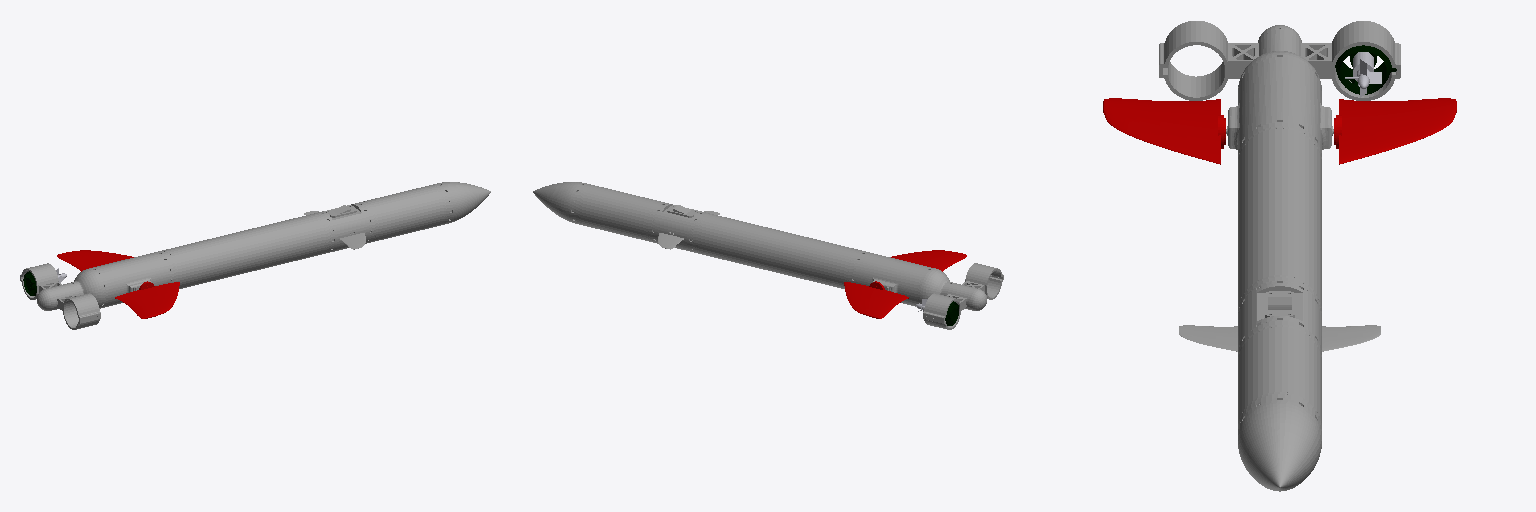
robot.urdf — my_auv:
<?xml version="1.0"?>

<robot name="my_auv">

  <!-- ========================= -->
  <!-- Main AUV body             -->
  <!-- ========================= -->

  <link name="base_link">

    <visual>
	<origin 
    xyz="0 0 0"
    rpy="0 0 1.5708"/>
      <geometry>
        <mesh
        filename="package://auv_sim/meshes/auv_body.stl"
        scale="1 1 1"/>
      </geometry>

      <material name="body_gray">
        <color rgba="0.65 0.65 0.65 1.0"/>
      </material>
    </visual>

    <collision name="main_hull_collision">
      <origin xyz="0 0 0" rpy="0 1.5708 0"/>

      <geometry>
        <cylinder
          radius="0.055"
          length="1.046"/>
      </geometry>
    </collision>

    <inertial>
      <mass value="4.3556"/>

      <inertia
        ixx="0.01515"
        ixy="0.0"
        ixz="0.0"
        iyy="0.30780"
        iyz="0.0"
        izz="0.31675"/>
    </inertial>

  </link>

  <!-- ========================= -->
  <!-- Center internal ballast    -->
  <!-- ========================= -->

  <link name="center_ballast">

    <inertial>
      <origin xyz="0 0 0"/>

      <mass value="4.65"/>

      <inertia
        ixx="0.01"
        ixy="0.0"
        ixz="0.0"
        iyy="0.01"
        iyz="0.0"
        izz="0.01"/>
    </inertial>

  </link>

  <joint name="center_ballast_joint" type="fixed">

    <parent link="base_link"/>
    <child link="center_ballast"/>

    <origin xyz="0 0 -0.035" rpy="0 0 0"/>

  </joint>

  <!-- ========================= -->
  <!-- Rear internal ballast     -->
  <!-- ========================= -->

  <link name="rear_ballast">

    <inertial>
      <origin xyz="0 0 0"/>

      <mass value="2.15"/>

      <inertia
        ixx="0.01"
        ixy="0.0"
        ixz="0.0"
        iyy="0.01"
        iyz="0.0"
        izz="0.01"/>
    </inertial>

  </link>

  <joint name="rear_ballast_joint" type="fixed">

    <parent link="base_link"/>
    <child link="rear_ballast"/>

    <origin xyz="-0.50 0 -0.035" rpy="0 0 0"/>

  </joint>

  <!-- ========================= -->
  <!-- IMU sensor                -->
  <!-- ========================= -->

  <gazebo reference="base_link">

    <sensor name="auv_imu" type="imu">

      <always_on>true</always_on>

      <update_rate>100</update_rate>

      <topic>imu</topic>

      <visualize>false</visualize>

    </sensor>

  </gazebo>

  <!-- ========================= -->
  <!-- Left elevator fin         -->
  <!-- ========================= -->

  <link name="left_fin">

    <visual>
      <origin xyz="0 0 0" rpy="0 0 1.5708"/>

      <geometry>
        <mesh filename="package://auv_sim/meshes/Left_fin.stl"/>
      </geometry>

    <material name="hotrod_red">
      <color rgba="0.75 0.02 0.02 1.0"/>
    </material>
  </visual>

    <collision>
      <origin xyz="0 0.15 0"/>
      <geometry>
        <box size="0.30 0.20 0.01"/>
      </geometry>

    </collision>

    <inertial>

      <mass value="0.164"/>

      <inertia
        ixx="0.001"
        ixy="0.0"
        ixz="0.0"
        iyy="0.001"
        iyz="0.0"
        izz="0.001"/>

    </inertial>

  </link>

  <!-- ========================= -->
  <!-- Right elevator fin         -->
  <!-- ========================= -->

  <link name="right_fin">

    <visual>
      <origin xyz="0 0 0" rpy="0 0 1.5708"/>

      <geometry>
        <mesh filename="package://auv_sim/meshes/Right_fin.stl"/>
      </geometry>

    <material name="hotrod_red">
      <color rgba="0.75 0.02 0.02 1.0"/>
    </material>
  </visual>

    <collision>
      <origin xyz="0 -0.15 0"/>
      <geometry>
        <box size="0.30 0.20 0.01"/>
      </geometry>

    </collision>

    <inertial>

      <mass value="0.164"/>

      <inertia
        ixx="0.001"
        ixy="0.0"
        ixz="0.0"
        iyy="0.001"
        iyz="0.0"
        izz="0.001"/>

    </inertial>

  </link>

  <!-- ========================= -->
  <!-- Left rear U1 thruster     -->
  <!-- ========================= -->

  <link name="left_thruster">

    <visual>
      <origin rpy="0 1.5708 1.5708"/>

      <geometry>
        <mesh filename="package://auv_sim/meshes/Left_thruster_hull.stl"/>
      </geometry>

      <material name="thruster_color">
        <color rgba="0.0 0.1 0.0 1.0"/>
      </material>
    </visual>

    <collision>
      <origin rpy="0 1.5708 0"/>

      <geometry>
        <cylinder radius="0.0375" length="0.075"/>
      </geometry>
    </collision>

    <inertial>
      <mass value="0.0781"/>

      <inertia
        ixx="0.0002"
        ixy="0.0"
        ixz="0.0"
        iyy="0.0002"
        iyz="0.0"
        izz="0.0002"/>
    </inertial>

  </link>

  <!-- ========================= -->
  <!-- Left U1 propeller        -->
  <!-- ========================= -->

  <link name="left_propeller">

    <visual>
      <origin xyz="0 0 0" rpy="0 0 -1.5708"/>
      <geometry>
        <mesh filename="package://auv_sim/meshes/Left_thruster_motor.stl"/>
      </geometry>

      <material name="propeller_color">
        <color rgba="0.75 0.75 0.78 1.0"/>
      </material>
    </visual>

    <inertial>
      <mass value="0.0801"/>

      <inertia
        ixx="0.00001"
        ixy="0.0"
        ixz="0.0"
        iyy="0.00001"
        iyz="0.0"
        izz="0.00001"/>
    </inertial>

  </link>

  <!-- ========================= -->
  <!-- Right rear U1 thruster    -->
  <!-- ========================= -->

  <link name="right_thruster">

      <visual>
        <origin rpy="0 -1.5708 1.5708"/>

      <geometry>
        <mesh filename="package://auv_sim/meshes/Right_thruster_hull.stl"/>
      </geometry>

        <material name="thruster_color">
          <color rgba="0.0 0.1 0.0 1.0"/>
        </material>
      </visual>

      <collision>
        <origin rpy="0 1.5708 0"/>

        <geometry>
          <cylinder radius="0.0375" length="0.075"/>
        </geometry>
      </collision>

      <inertial>
        <mass value="0.0781"/>

        <inertia
          ixx="0.0002"
          ixy="0.0"
          ixz="0.0"
          iyy="0.0002"
          iyz="0.0"
          izz="0.0002"/>
      </inertial>

    </link>

  <!-- ========================= -->
  <!-- Right U1 propeller       -->
  <!-- ========================= -->

  <link name="right_propeller">

    <visual>
      <origin xyz="0 0 0" rpy="0 0 -1.5708"/>
      <geometry>
        <mesh filename="package://auv_sim/meshes/Right_thruster_motor.stl"/>
      </geometry>

      <material name="propeller_color">
        <color rgba="0.75 0.75 0.78 1.0"/>
      </material>
    </visual>

    <inertial>
      <mass value="0.0801"/>

      <inertia
        ixx="0.00001"
        ixy="0.0"
        ixz="0.0"
        iyy="0.00001"
        iyz="0.0"
        izz="0.00001"/>
    </inertial>

  </link>

  <!-- ========================= -->
  <!-- Fin joint                 -->
  <!-- ========================= -->

  <joint name="left_fin_joint"
         type="revolute">

    <parent link="base_link"/>

    <child link="left_fin"/>

    <!-- Position of fin relative to body -->
    <origin xyz="-0.81510 0.06980 0.0"
            rpy="0 0 0"/>

    <!-- Axis of rotation -->
    <axis xyz="0 1 0"/>

    <!-- Servo limits -->
    <limit
      lower="-0.5"
      upper="0.5"
      effort="10"
      velocity="2"/>

  </joint>

  <joint name="right_fin_joint"
         type="revolute">

    <parent link="base_link"/>

    <child link="right_fin"/>

    <!-- Position of fin relative to body -->
    <origin xyz="-0.81510 -0.06980 0.0"
            rpy="0 0 0"/>

    <!-- Axis of rotation -->
    <axis xyz="0 1 0"/>

    <!-- Servo limits -->
    <limit
      lower="-0.5"
      upper="0.5"
      effort="10"
      velocity="2"/>

  </joint>

  <joint name="left_thruster_joint" type="fixed">

    <parent link="base_link"/>
    <child link="left_thruster"/>

    <origin xyz="-1.03199 0.108239 0.0" rpy="0 0 0"/>

  </joint>

  <joint name="left_propeller_joint" type="continuous">

    <parent link="left_thruster"/>
    <child link="left_propeller"/>

    <origin xyz="0 0 0" rpy="0 0 0"/>

    <axis xyz="1 0 0"/>

  </joint>

  <joint name="right_thruster_joint" type="fixed">

    <parent link="base_link"/>
    <child link="right_thruster"/>

    <origin xyz="-1.03199 -0.108239 0.0" rpy="0 0 0"/>

  </joint>

  <joint name="right_propeller_joint" type="continuous">

    <parent link="right_thruster"/>
    <child link="right_propeller"/>

    <origin xyz="0 0 0" rpy="0 0 0"/>

    <axis xyz="1 0 0"/>

  </joint>

  <ros2_control name="GazeboSimSystem" type="system">
    <hardware>
      <plugin>gz_ros2_control/GazeboSimSystem</plugin>
    </hardware>

    <joint name="left_fin_joint">
      <command_interface name="position"/>
      <state_interface name="position"/>
      <state_interface name="velocity"/>
    </joint>

    <joint name="right_fin_joint">
      <command_interface name="position"/>
      <state_interface name="position"/>
      <state_interface name="velocity"/>
    </joint>

  </ros2_control>

  <gazebo>
    <plugin
      filename="libgz_ros2_control-system.so"
      name="gz_ros2_control::GazeboSimROS2ControlPlugin">
      <parameters>/home/ghalih-a-salamun/auv_ws/src/auv_sim/config/controllers.yaml</parameters>
    </plugin>

    <!-- ========================= -->
    <!-- Fixed stabilizer +Y side  -->
    <!-- ========================= -->

    <plugin
      filename="gz-sim-lift-drag-system"
      name="gz::sim::systems::LiftDrag">

      <air_density>1000</air_density>

      <cla>2.0</cla>
      <cla_stall>-1.1</cla_stall>

      <cda>0.2</cda>
      <cda_stall>0.03</cda_stall>

      <alpha_stall>0.17</alpha_stall>

      <a0>0</a0>

      <area>0.004267</area>

      <forward>1 0 0</forward>
      <upward>0 0 1</upward>

      <link_name>base_link</link_name>

      <cp>-0.18961 0.08444 0</cp>

    </plugin>


    <!-- ========================= -->
    <!-- Fixed stabilizer -Y side  -->
    <!-- ========================= -->

    <plugin
      filename="gz-sim-lift-drag-system"
      name="gz::sim::systems::LiftDrag">

      <air_density>1000</air_density>

      <cla>2.0</cla>
      <cla_stall>-1.1</cla_stall>

      <cda>0.2</cda>
      <cda_stall>0.03</cda_stall>

      <alpha_stall>0.17</alpha_stall>

      <a0>0</a0>

      <area>0.004267</area>

      <forward>1 0 0</forward>
      <upward>0 0 1</upward>

      <link_name>base_link</link_name>

      <cp>-0.18961 -0.08444 0</cp>

    </plugin>

    <plugin
      filename="gz-sim-thruster-system"
      name="gz::sim::systems::Thruster">

      <namespace>auv</namespace>
      <joint_name>left_propeller_joint</joint_name>

      <fluid_density>1000</fluid_density>
      <propeller_diameter>0.05</propeller_diameter>

      <max_thrust_cmd>19.6</max_thrust_cmd>
      <min_thrust_cmd>-19.6</min_thrust_cmd>

    </plugin>

    <plugin
      filename="gz-sim-thruster-system"
      name="gz::sim::systems::Thruster">

      <namespace>auv</namespace>

      <joint_name>right_propeller_joint</joint_name>

      <fluid_density>1000</fluid_density>
      <propeller_diameter>0.05</propeller_diameter>

      <max_thrust_cmd>19.6</max_thrust_cmd>
      <min_thrust_cmd>-19.6</min_thrust_cmd>

    </plugin>

    <plugin filename="gz-sim-odometry-publisher-system"
          name="gz::sim::systems::OdometryPublisher">

      <odom_frame>world</odom_frame>
      <robot_base_frame>base_link</robot_base_frame>

      <odom_publish_frequency>50</odom_publish_frequency>

      <dimensions>3</dimensions>

      <odom_topic>/auv/odom</odom_topic>

    </plugin>

    <!-- ========================= -->
    <!-- Hydrodynamic damping      -->
    <!-- ========================= -->

    <plugin
      filename="gz-sim-hydrodynamics-system"
      name="gz::sim::systems::Hydrodynamics">

      <link_name>base_link</link_name>

      <!-- Linear damping -->
      <xU>0.0</xU>
      <yV>-0.0</yV>
      <zW>-0.0</zW>

      <kP>-0.0</kP>
      <mQ>-0.0</mQ>
      <nR>-0.0</nR>

      <!-- Quadratic damping -->
      <xUabsU>-5.0</xUabsU>
      <yVabsV>-76.0</yVabsV>
      <zWabsW>-76.0</zWabsW>

      <kPabsP>-0.01</kPabsP>
      <mQabsQ>-9.9</mQabsQ>
      <nRabsR>-9.9</nRabsR>

    </plugin>

    <!-- ========================= -->
    <!-- Left elevator hydrodynamics -->
    <!-- ========================= -->

    <plugin
      filename="gz-sim-lift-drag-system"
      name="gz::sim::systems::LiftDrag">

      <air_density>1000</air_density>

      <cla>1.9</cla>
      <cla_stall>-1.1</cla_stall>

      <cda>0.2</cda>
      <cda_stall>0.03</cda_stall>

      <alpha_stall>0.17</alpha_stall>

      <a0>0</a0>

      <area>0.01875</area>

      <forward>1 0 0</forward>
      <upward>0 0 1</upward>

      <link_name>left_fin</link_name>

      <cp>0.005 -0.060 0</cp>

    </plugin>


    <!-- ========================= -->
    <!-- Right elevator hydrodynamics -->
    <!-- ========================= -->

    <plugin
      filename="gz-sim-lift-drag-system"
      name="gz::sim::systems::LiftDrag">

      <air_density>1000</air_density>

      <cla>1.9</cla>
      <cla_stall>-1.1</cla_stall>

      <cda>0.2</cda>
      <cda_stall>0.03</cda_stall>

      <alpha_stall>0.17</alpha_stall>

      <a0>0</a0>

      <area>0.01875</area>

      <forward>1 0 0</forward>
      <upward>0 0 1</upward>

      <link_name>right_fin</link_name>

      <cp>0.005 0.060 0</cp>

    </plugin>

  </gazebo>

</robot>

--- Render facts (derived) ---
Views: 3 orthographic renders of the robot side by side, from view 1: azimuth 30°, elevation 25°; view 2: azimuth 150°, elevation 25°; view 3: azimuth 270°, elevation 25°.
Robot: my_auv — 9 links, 8 joints (2 revolute, 2 continuous, 4 fixed); root link base_link; default pose: every joint at zero.
Links seen in each view (by area): view 1: base_link, right_fin, left_fin; view 2: base_link, left_fin, right_fin; view 3: base_link, left_fin, right_fin, left_thruster, left_propeller.
Boxes of the visible links, bbox=[...] form: base_link: bbox=[20, 182, 490, 329]; right_fin: bbox=[115, 281, 179, 318]; left_fin: bbox=[57, 250, 133, 271]; base_link: bbox=[533, 182, 1003, 329]; left_fin: bbox=[844, 281, 908, 318]; right_fin: bbox=[891, 250, 966, 271]; base_link: bbox=[1159, 21, 1400, 491]; left_fin: bbox=[1334, 98, 1456, 164]; right_fin: bbox=[1103, 98, 1225, 164]; left_thruster: bbox=[1335, 45, 1396, 94]; left_propeller: bbox=[1345, 52, 1381, 97].
Bounding box of the posed robot: 1.38 × 0.4589 × 0.1128 m (x, y, z).
Meshes: 7 distinct files referenced, 5 mesh visuals loaded (5 binary STL); not drawn: 2 (reference not matched to a file when rendering).
